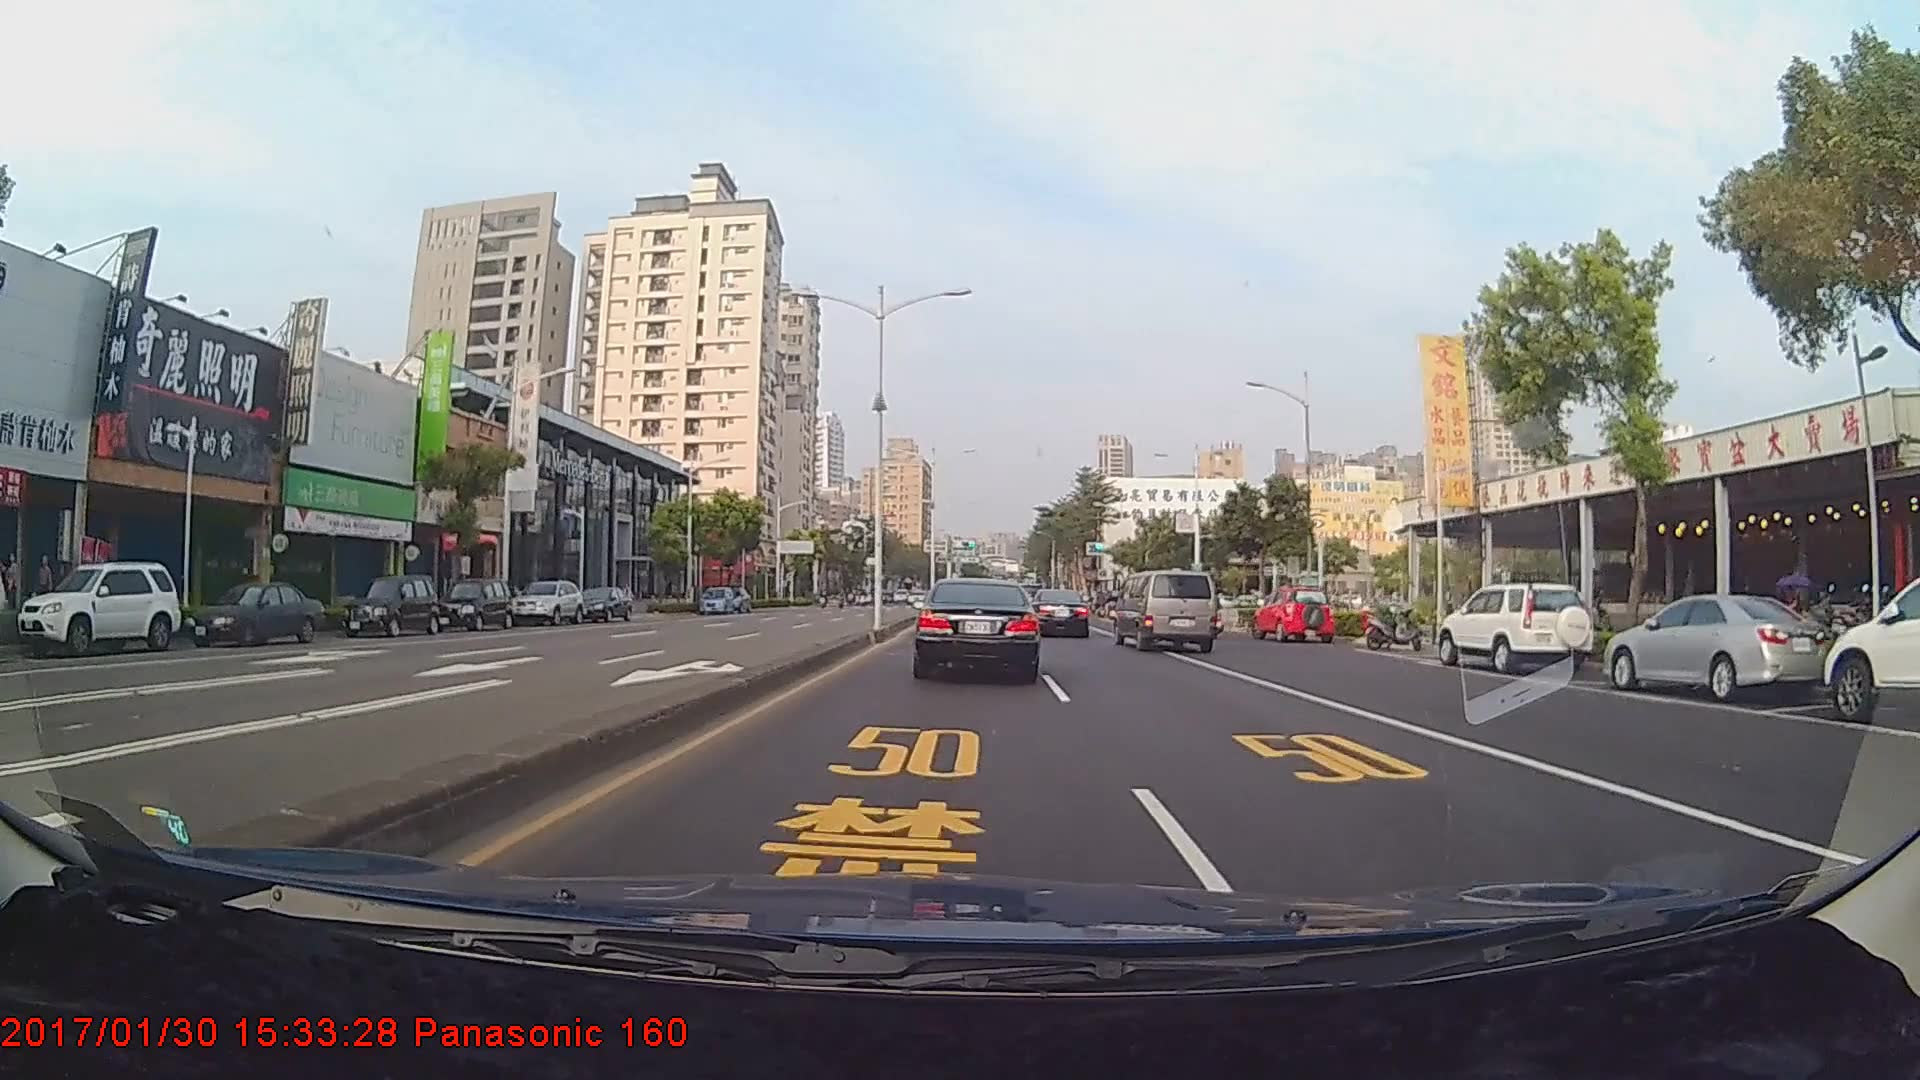vehicle: (1604, 588, 1830, 700), (13, 560, 182, 655), (1825, 570, 1920, 727), (1437, 582, 1593, 673), (914, 576, 1040, 682), (179, 579, 324, 650), (1112, 568, 1218, 651), (338, 574, 440, 637), (1253, 585, 1333, 644), (431, 578, 512, 632), (506, 579, 585, 626), (1027, 588, 1091, 638), (570, 587, 634, 622), (698, 584, 735, 613)
